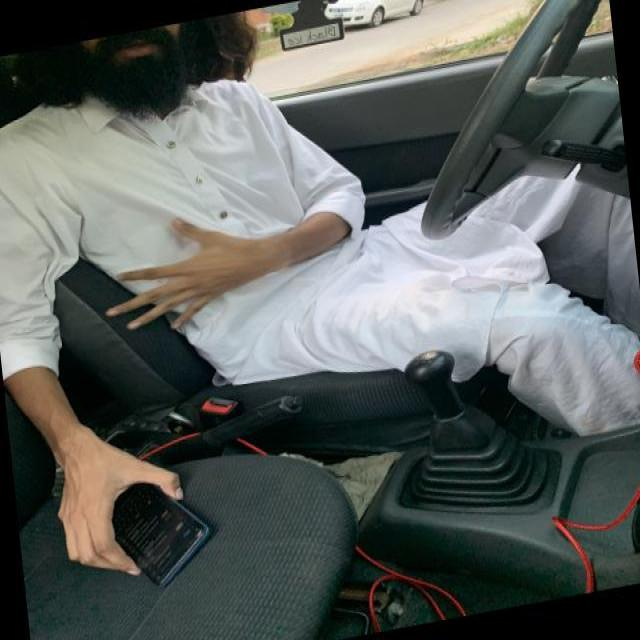no-seatbelt: (14, 109, 458, 343)
